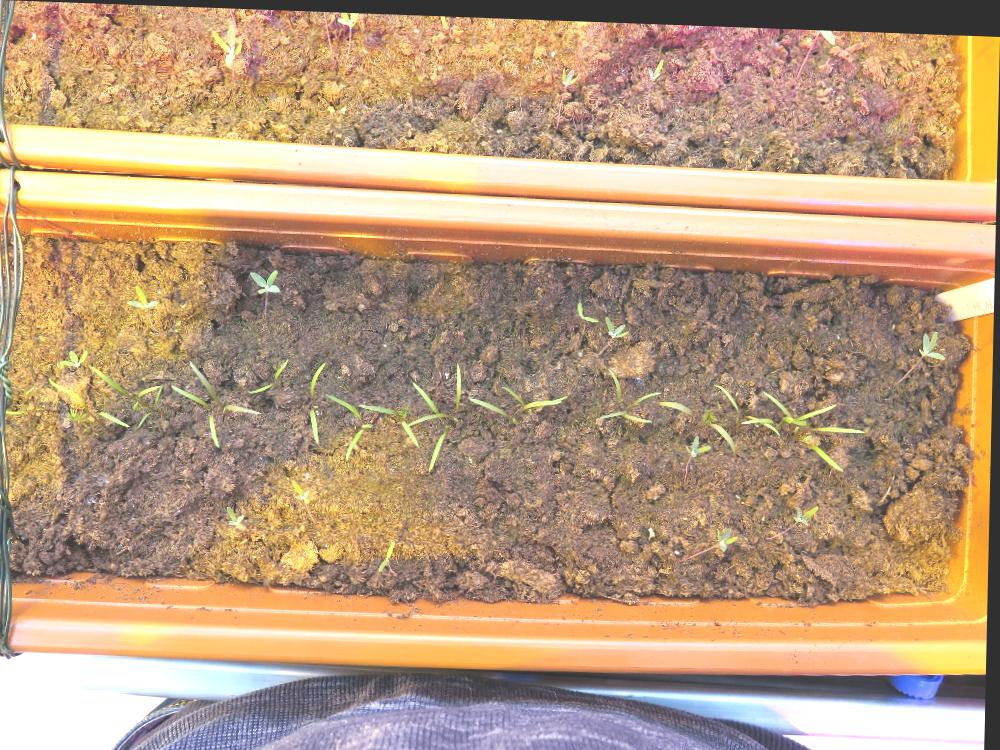weed: (209, 19, 242, 65), (249, 262, 282, 291), (125, 281, 160, 308), (919, 321, 948, 352), (684, 428, 714, 454), (715, 517, 741, 547), (58, 344, 89, 368), (604, 310, 631, 334), (795, 495, 821, 519), (379, 535, 397, 569), (577, 294, 601, 318), (291, 475, 313, 501), (226, 502, 247, 526), (646, 51, 664, 77), (560, 60, 579, 83)
